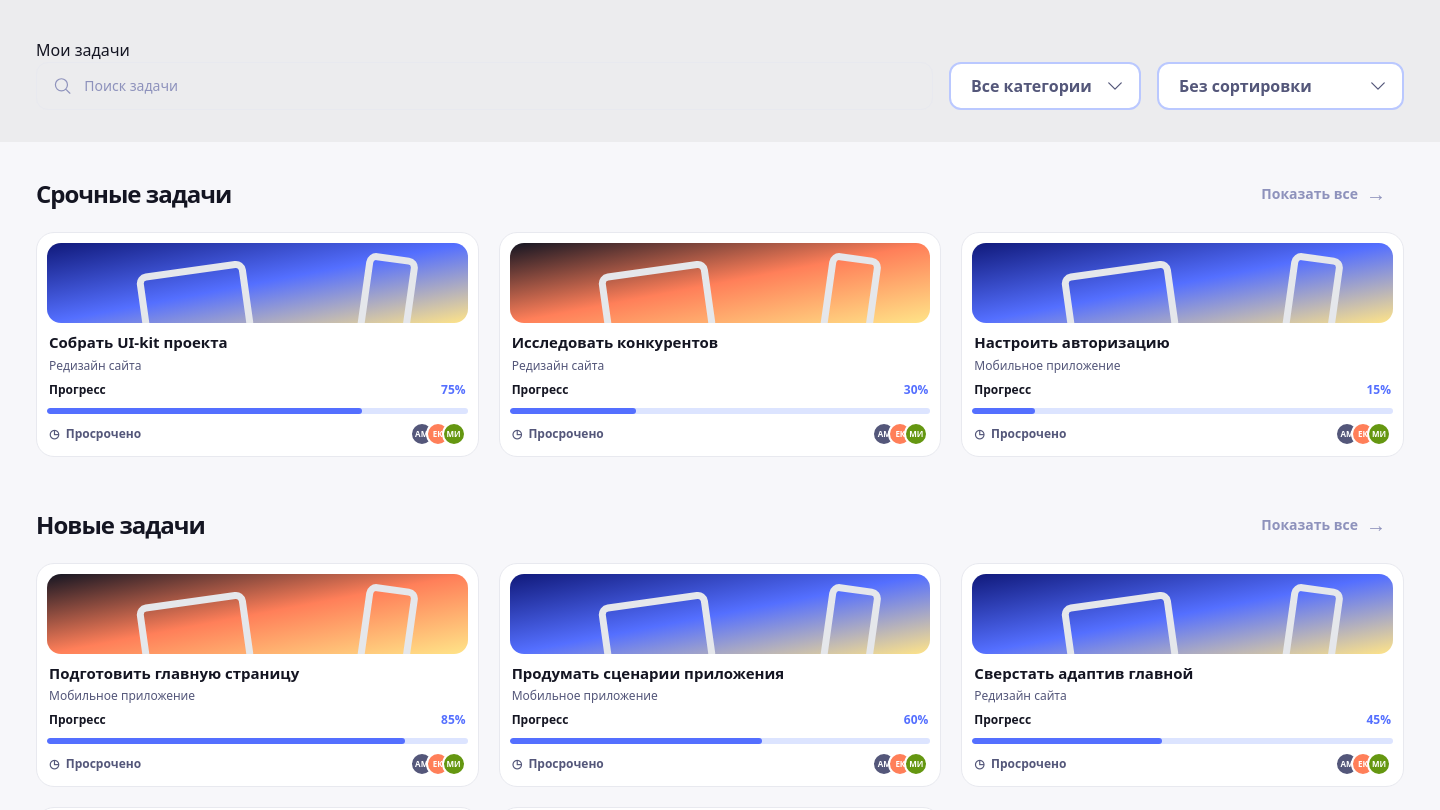
Test: TaskExplorer › после выбора сортировки показывает задачи с ближайшим дедлайном первыми
Select "Сначала ближайшие" in the dropdown named "Сортировка задач": (1280, 86) [1157, 62, 1404, 110]
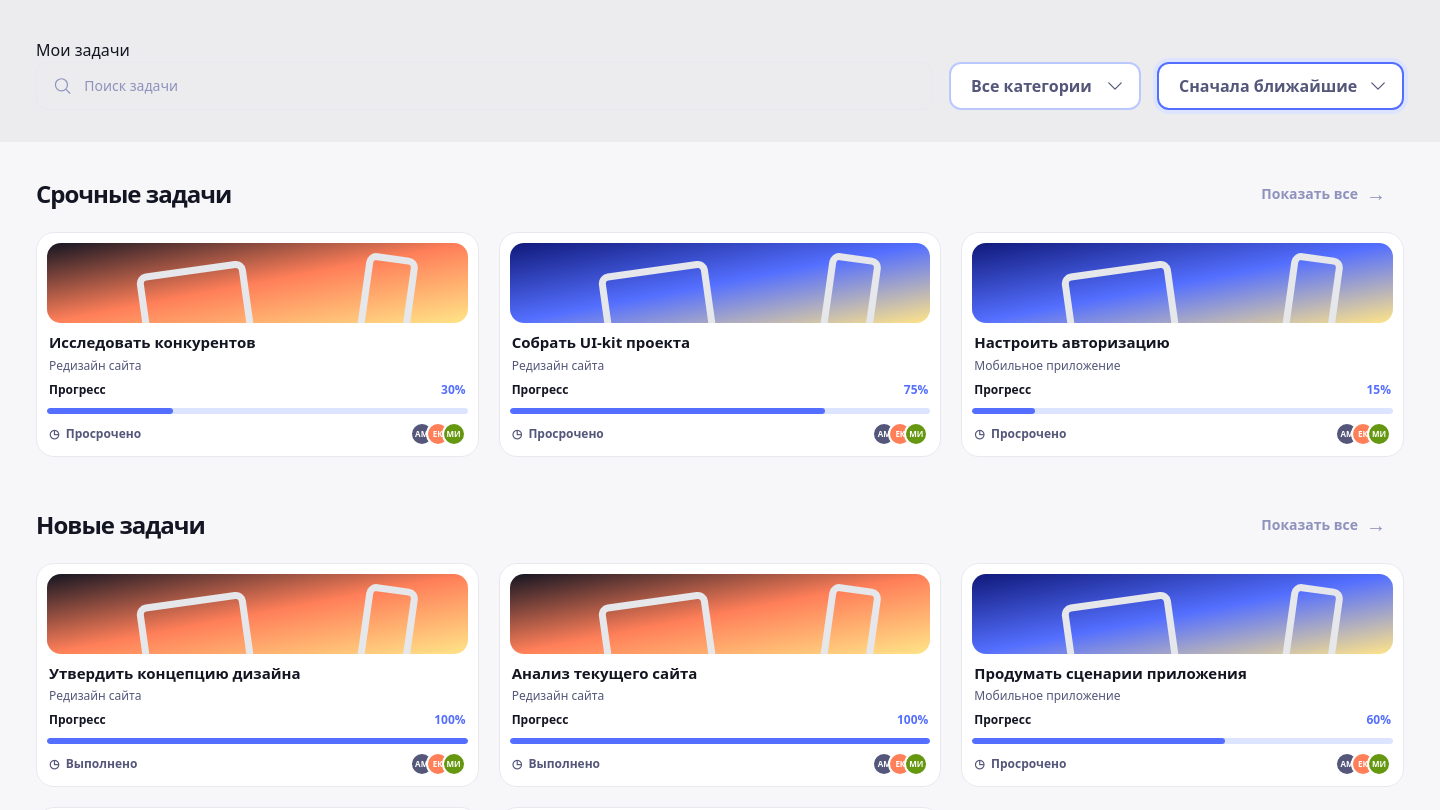
Check: the links read "Исследовать конкурентов", "Собрать UI-kit проекта", "Настроить авторизацию", in this order, box [49, 332, 256, 352]; [512, 332, 690, 352]; [974, 332, 1170, 352]
